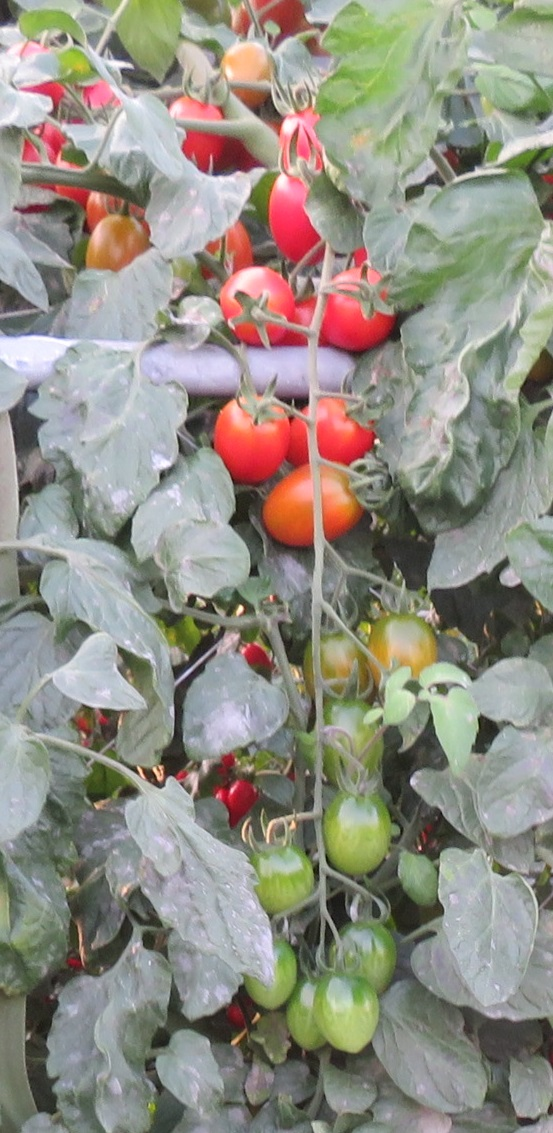green: (362, 605, 449, 699), (320, 775, 388, 877), (322, 701, 387, 785), (313, 969, 372, 1053), (238, 846, 315, 906), (241, 934, 299, 1013), (330, 920, 403, 980), (312, 628, 360, 697)
orange: (259, 469, 388, 546), (209, 381, 302, 482), (288, 399, 384, 467), (313, 275, 397, 349), (216, 39, 273, 108), (86, 212, 149, 273)
red: (220, 264, 300, 345), (266, 167, 328, 268), (169, 95, 226, 177), (280, 108, 330, 173), (237, 642, 272, 674), (227, 779, 256, 815)
